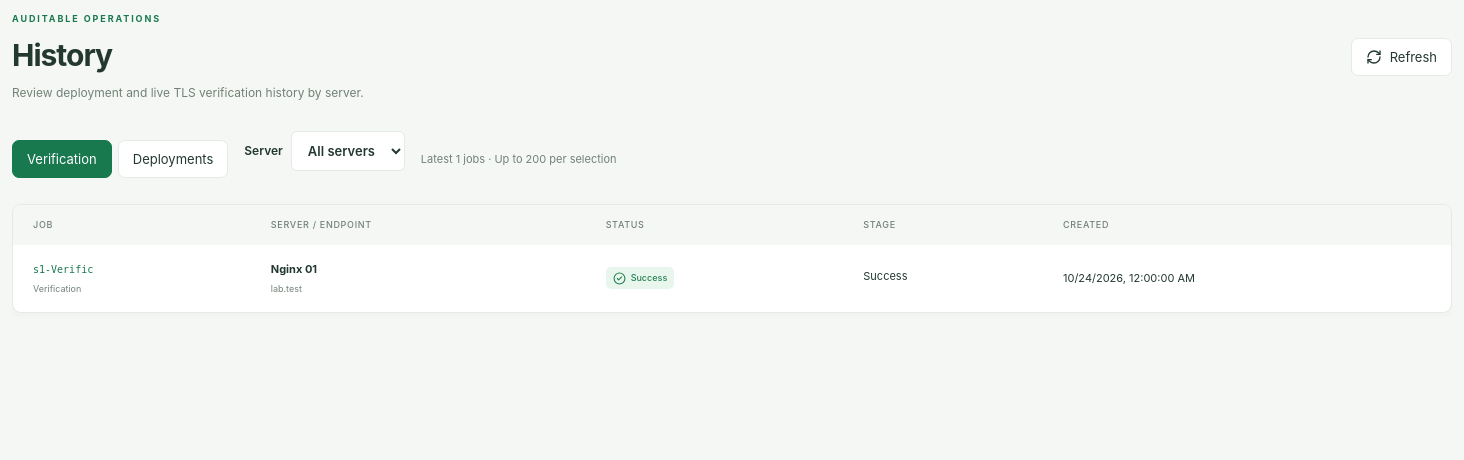
Test case: server history › defaults to verification, preserves server selection between tabs, and closes stale details
The width and height of the screenshot is (1464, 460).
Click the button "s1-Verific" at (63, 270), box [33,264,93,276]
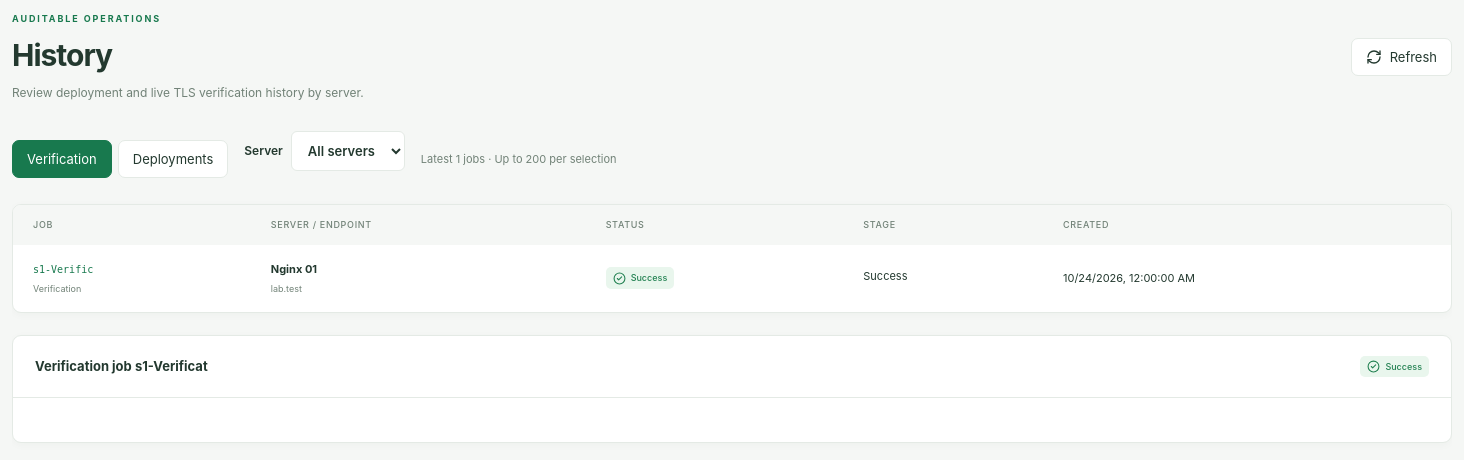
expect the heading "Verification job s1-Verificat" is shown: met, box [35,357,208,376]
Select "Nginx 02" in the dropdown labelled "Server" at (348, 151), box [291,131,405,171]
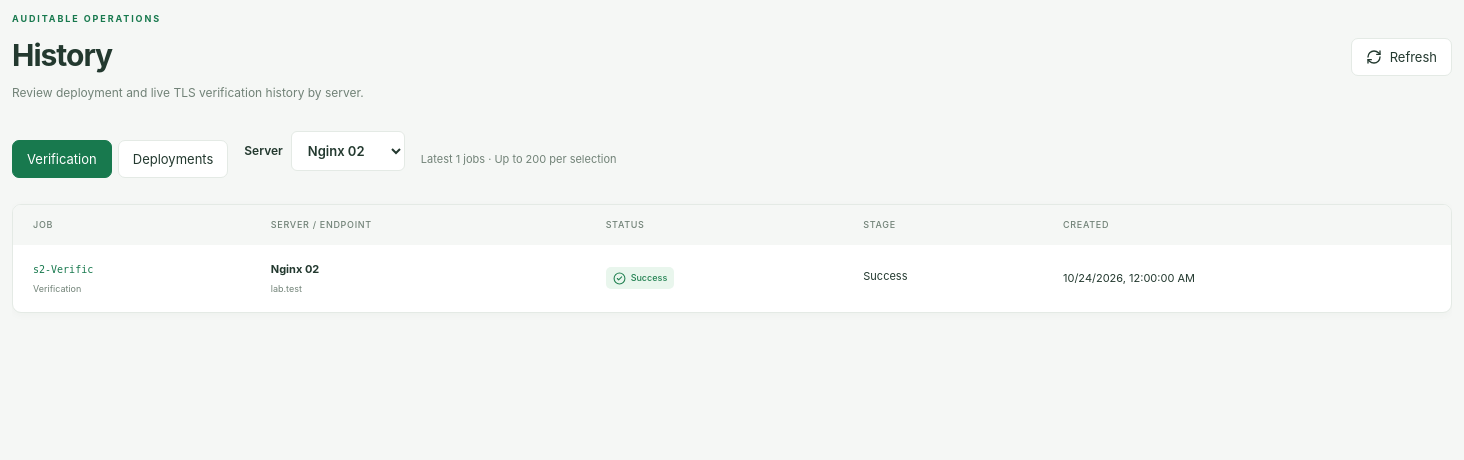
expect the button "s2-Verific" is shown: met, box [33,264,93,276]
expect the heading "Verification job" is gone: met
Click the tab "Deployments" at (173, 159), box [118,140,228,178]
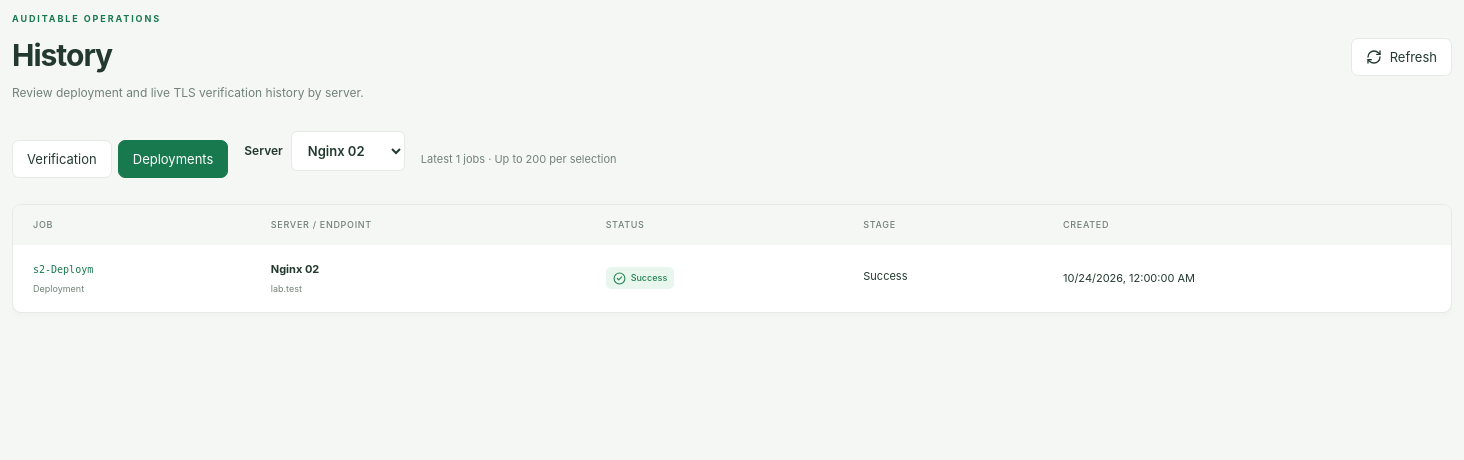
expect the button "s2-Deploym" is shown: met, box [33,264,93,276]
expect the button "s2-Verific" is gone: met
Press ArrowLeft in the tab "Deployments", box [118,140,228,178]
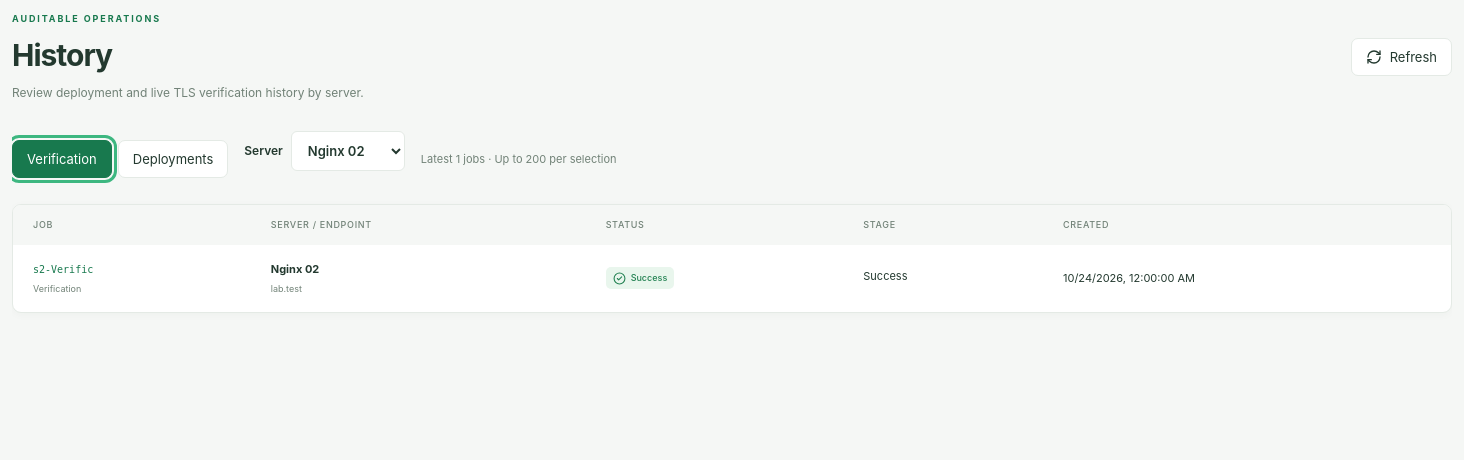
expect the button "s2-Verific" is shown: met, box [33,264,93,276]
